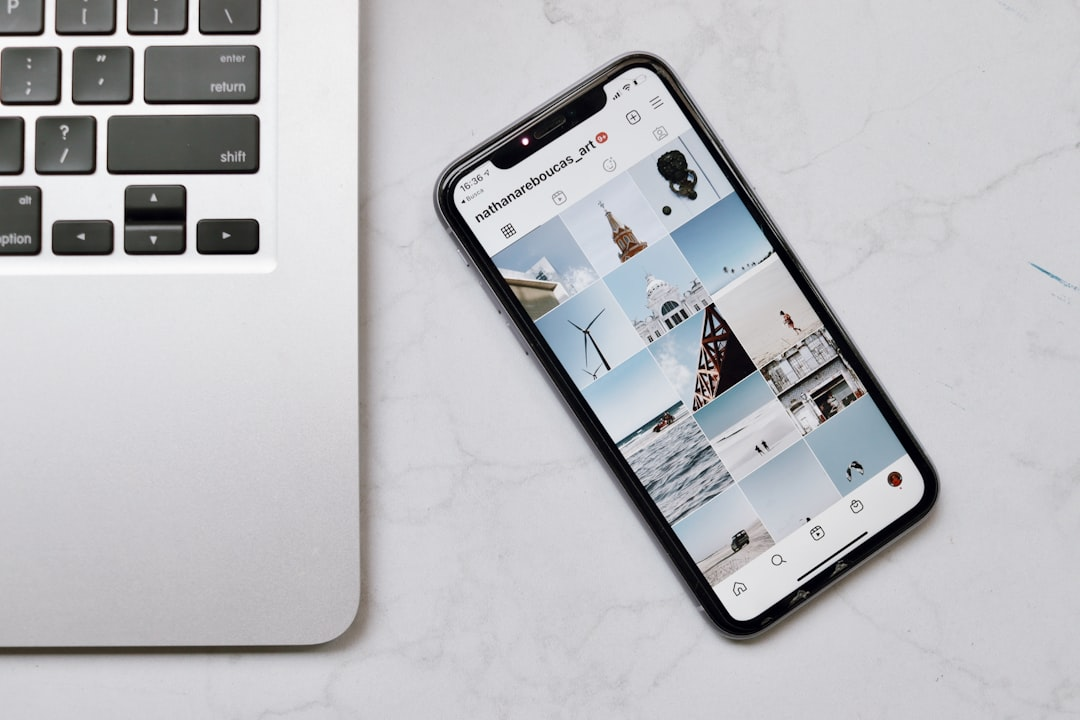phone: (433, 52, 940, 640)
